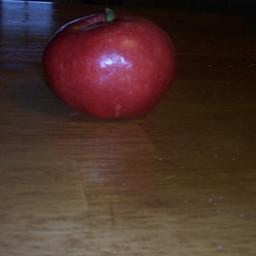apple: (41, 6, 179, 122)
